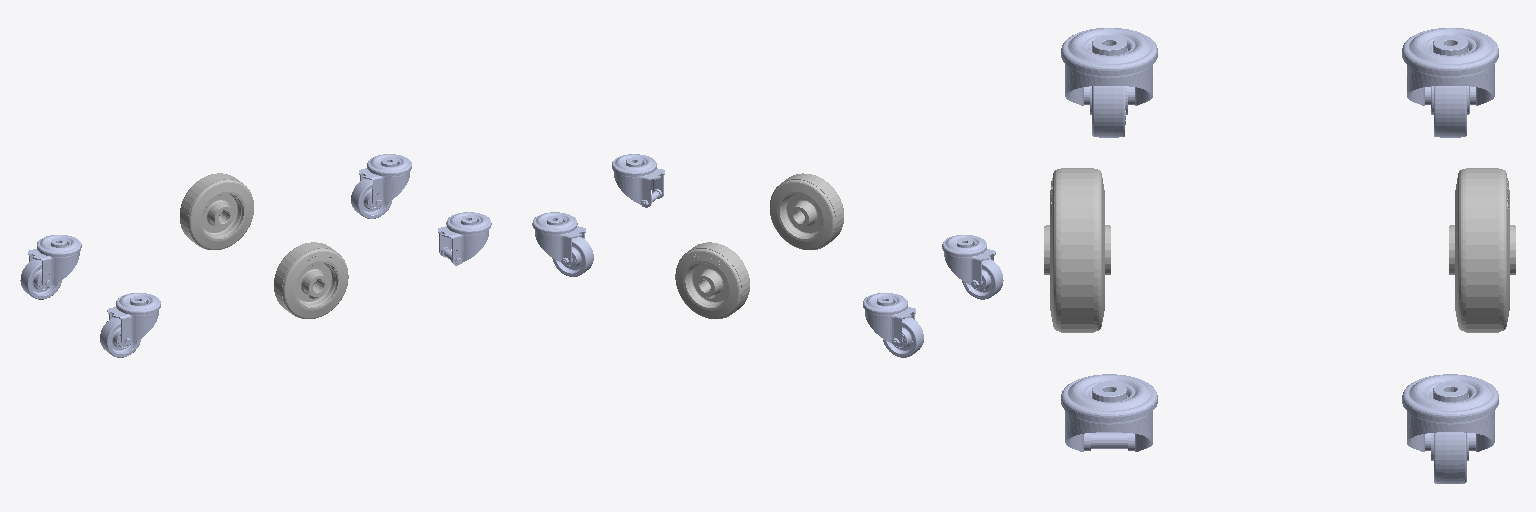
URDF robot description (smr100e_description):
<?xml version="1.0" encoding="utf-8"?>
<!-- This URDF was automatically created by SolidWorks to URDF Exporter! Originally created by [author] ([email redacted]) 
     Commit Version: 1.5.1-0-g916b5db  Build Version: 1.5.7152.31018
     For more information, please see http://wiki.ros.org/sw_urdf_exporter -->
<robot
  name="smr100e_description">
  <link
    name="base_link">
    <inertial>
      <origin
        xyz="0.010919 -0.00079912 0.23958"
        rpy="0 0 0" />
      <mass
        value="17.77" />
      <inertia
        ixx="0.64255"
        ixy="-0.002326"
        ixz="0.047666"
        iyy="1.531"
        iyz="-0.0011678"
        izz="1.626" />
    </inertial>
    <visual>
      <origin
        xyz="0 0 0"
        rpy="0 0 0" />
      <geometry>
        <mesh
          filename="package://smr100e_description/meshes/base_link.STL" />
      </geometry>
      <material
        name="">
        <color
          rgba="0.79216 0.81961 0.93333 1" />
      </material>
    </visual>
    <collision>
      <origin
        xyz="0 0 0"
        rpy="0 0 0" />
      <geometry>
        <mesh
          filename="package://smr100e_description/meshes/base_link.STL" />
      </geometry>
    </collision>
  </link>
  <link
    name="wheel_left_link">
    <inertial>
      <origin
        xyz="5.7207E-08 3.3262E-05 -9.2679E-05"
        rpy="0 0 0" />
      <mass
        value="4.9554" />
      <inertia
        ixx="0.0087272"
        ixy="-4.3289E-09"
        ixz="-2.7053E-08"
        iyy="0.01571"
        iyz="2.8551E-06"
        izz="0.0087185" />
    </inertial>
    <visual>
      <origin
        xyz="0 0 0"
        rpy="0 0 0" />
      <geometry>
        <mesh
          filename="package://smr100e_description/meshes/wheel_left_link.STL" />
      </geometry>
      <material
        name="">
        <color
          rgba="0.79216 0.79216 0.79216 1" />
      </material>
    </visual>
    <collision>
      <origin
        xyz="0 0 0"
        rpy="0 0 0" />
      <geometry>
        <mesh
          filename="package://smr100e_description/meshes/wheel_left_link.STL" />
      </geometry>
    </collision>
  </link>
  <joint
    name="wheel_left_joint"
    type="continuous">
    <origin
      xyz="0 0.184 0.075"
      rpy="0 0 0" />
    <parent
      link="base_link" />
    <child
      link="wheel_left_link" />
    <axis
      xyz="0 -1 0" />
  </joint>
  <link
    name="caster_front_left_arm_link">
    <inertial>
      <origin
        xyz="-0.0084392 6.8287E-05 -0.022004"
        rpy="0 0 0" />
      <mass
        value="0.11922" />
      <inertia
        ixx="0.00011949"
        ixy="2.5918E-07"
        ixz="-3.3659E-05"
        iyy="0.00013144"
        iyz="3.8695E-07"
        izz="0.0001377" />
    </inertial>
    <visual>
      <origin
        xyz="0 0 0"
        rpy="0 0 0" />
      <geometry>
        <mesh
          filename="package://smr100e_description/meshes/caster_front_left_arm_link.STL" />
      </geometry>
      <material
        name="">
        <color
          rgba="0.79216 0.81961 0.93333 1" />
      </material>
    </visual>
    <collision>
      <origin
        xyz="0 0 0"
        rpy="0 0 0" />
      <geometry>
        <mesh
          filename="package://smr100e_description/meshes/caster_front_left_arm_link.STL" />
      </geometry>
    </collision>
  </link>
  <joint
    name="caster_front_left_arm_joint"
    type="continuous">
    <origin
      xyz="0.3725 0.155 0.10942"
      rpy="0 0 0" />
    <parent
      link="base_link" />
    <child
      link="caster_front_left_arm_link" />
    <axis
      xyz="0 0 1" />
  </joint>
  <link
    name="caster_front_left_wheel_link">
    <inertial>
      <origin
        xyz="9.0636E-06 1.0025E-05 -3.4158E-05"
        rpy="0 0 0" />
      <mass
        value="0.10623" />
      <inertia
        ixx="5.3145E-05"
        ixy="-1.3094E-08"
        ixz="-1.6364E-09"
        iyy="9.0791E-05"
        iyz="1.1955E-08"
        izz="5.3158E-05" />
    </inertial>
    <visual>
      <origin
        xyz="0 0 0"
        rpy="0 0 0" />
      <geometry>
        <mesh
          filename="package://smr100e_description/meshes/caster_front_left_wheel_link.STL" />
      </geometry>
      <material
        name="">
        <color
          rgba="0.79216 0.81961 0.93333 1" />
      </material>
    </visual>
    <collision>
      <origin
        xyz="0 0 0"
        rpy="0 0 0" />
      <geometry>
        <mesh
          filename="package://smr100e_description/meshes/caster_front_left_wheel_link.STL" />
      </geometry>
    </collision>
  </link>
  <joint
    name="caster_front_left_wheel_joint"
    type="continuous">
    <origin
      xyz="-0.04 -0.0005 -0.07"
      rpy="0 0 0" />
    <parent
      link="caster_front_left_arm_link" />
    <child
      link="caster_front_left_wheel_link" />
    <axis
      xyz="0 -1 0" />
  </joint>
  <link
    name="caster_rear_left_arm_link">
    <inertial>
      <origin
        xyz="-0.0084392 6.8287E-05 -0.022004"
        rpy="0 0 0" />
      <mass
        value="0.11922" />
      <inertia
        ixx="0.00011949"
        ixy="2.5918E-07"
        ixz="-3.3659E-05"
        iyy="0.00013144"
        iyz="3.8695E-07"
        izz="0.0001377" />
    </inertial>
    <visual>
      <origin
        xyz="0 0 0"
        rpy="0 0 0" />
      <geometry>
        <mesh
          filename="package://smr100e_description/meshes/caster_rear_left_arm_link.STL" />
      </geometry>
      <material
        name="">
        <color
          rgba="0.79216 0.81961 0.93333 1" />
      </material>
    </visual>
    <collision>
      <origin
        xyz="0 0 0"
        rpy="0 0 0" />
      <geometry>
        <mesh
          filename="package://smr100e_description/meshes/caster_rear_left_arm_link.STL" />
      </geometry>
    </collision>
  </link>
  <joint
    name="caster_rear_left_arm_joint"
    type="continuous">
    <origin
      xyz="-0.3725 0.155 0.10942"
      rpy="0 0 0" />
    <parent
      link="base_link" />
    <child
      link="caster_rear_left_arm_link" />
    <axis
      xyz="0 0 1" />
  </joint>
  <link
    name="caster_rear_left_wheel_link">
    <inertial>
      <origin
        xyz="9.0636E-06 1.0025E-05 -3.4158E-05"
        rpy="0 0 0" />
      <mass
        value="0.10623" />
      <inertia
        ixx="5.3145E-05"
        ixy="-1.3094E-08"
        ixz="-1.6364E-09"
        iyy="9.0791E-05"
        iyz="1.1955E-08"
        izz="5.3158E-05" />
    </inertial>
    <visual>
      <origin
        xyz="0 0 0"
        rpy="0 0 0" />
      <geometry>
        <mesh
          filename="package://smr100e_description/meshes/caster_rear_left_wheel_link.STL" />
      </geometry>
      <material
        name="">
        <color
          rgba="0.79216 0.81961 0.93333 1" />
      </material>
    </visual>
    <collision>
      <origin
        xyz="0 0 0"
        rpy="0 0 0" />
      <geometry>
        <mesh
          filename="package://smr100e_description/meshes/caster_rear_left_wheel_link.STL" />
      </geometry>
    </collision>
  </link>
  <joint
    name="caster_rear_left_wheel_joint"
    type="continuous">
    <origin
      xyz="-0.04 -0.0002 -0.07"
      rpy="0 0 0" />
    <parent
      link="caster_rear_left_arm_link" />
    <child
      link="caster_rear_left_wheel_link" />
    <axis
      xyz="0 -1 0" />
  </joint>
  <link
    name="wheel_right_link">
    <inertial>
      <origin
        xyz="-5.7206E-08 -3.3262E-05 -9.2679E-05"
        rpy="0 0 0" />
      <mass
        value="4.9554" />
      <inertia
        ixx="0.0087272"
        ixy="-4.3288E-09"
        ixz="2.7053E-08"
        iyy="0.01571"
        iyz="-2.8551E-06"
        izz="0.0087185" />
    </inertial>
    <visual>
      <origin
        xyz="0 0 0"
        rpy="0 0 0" />
      <geometry>
        <mesh
          filename="package://smr100e_description/meshes/wheel_right_link.STL" />
      </geometry>
      <material
        name="">
        <color
          rgba="0.79216 0.79216 0.79216 1" />
      </material>
    </visual>
    <collision>
      <origin
        xyz="0 0 0"
        rpy="0 0 0" />
      <geometry>
        <mesh
          filename="package://smr100e_description/meshes/wheel_right_link.STL" />
      </geometry>
    </collision>
  </link>
  <joint
    name="wheel_right_joint"
    type="continuous">
    <origin
      xyz="0 -0.184 0.075"
      rpy="0 0 0" />
    <parent
      link="base_link" />
    <child
      link="wheel_right_link" />
    <axis
      xyz="0 1 0" />
  </joint>
  <link
    name="caster_front_right_arm_link">
    <inertial>
      <origin
        xyz="-0.0084392 6.8287E-05 -0.022004"
        rpy="0 0 0" />
      <mass
        value="0.11922" />
      <inertia
        ixx="0.00011949"
        ixy="2.5918E-07"
        ixz="-3.3659E-05"
        iyy="0.00013144"
        iyz="3.8695E-07"
        izz="0.0001377" />
    </inertial>
    <visual>
      <origin
        xyz="0 0 0"
        rpy="0 0 0" />
      <geometry>
        <mesh
          filename="package://smr100e_description/meshes/caster_front_right_arm_link.STL" />
      </geometry>
      <material
        name="">
        <color
          rgba="0.79216 0.81961 0.93333 1" />
      </material>
    </visual>
    <collision>
      <origin
        xyz="0 0 0"
        rpy="0 0 0" />
      <geometry>
        <mesh
          filename="package://smr100e_description/meshes/caster_front_right_arm_link.STL" />
      </geometry>
    </collision>
  </link>
  <joint
    name="cater_front_right_arm_joint"
    type="continuous">
    <origin
      xyz="0.3725 -0.155 0.10942"
      rpy="0 0 0" />
    <parent
      link="base_link" />
    <child
      link="caster_front_right_arm_link" />
    <axis
      xyz="0 0 1" />
  </joint>
  <link
    name="caster_front_right_wheel_link">
    <inertial>
      <origin
        xyz="9.0636E-06 1.0025E-05 -3.4158E-05"
        rpy="0 0 0" />
      <mass
        value="0.10623" />
      <inertia
        ixx="5.3145E-05"
        ixy="-1.3094E-08"
        ixz="-1.6364E-09"
        iyy="9.0791E-05"
        iyz="1.1955E-08"
        izz="5.3158E-05" />
    </inertial>
    <visual>
      <origin
        xyz="0 0 0"
        rpy="0 0 0" />
      <geometry>
        <mesh
          filename="package://smr100e_description/meshes/caster_front_right_wheel_link.STL" />
      </geometry>
      <material
        name="">
        <color
          rgba="0.79216 0.81961 0.93333 1" />
      </material>
    </visual>
    <collision>
      <origin
        xyz="0 0 0"
        rpy="0 0 0" />
      <geometry>
        <mesh
          filename="package://smr100e_description/meshes/caster_front_right_wheel_link.STL" />
      </geometry>
    </collision>
  </link>
  <joint
    name="caster_front_right_wheel_joint"
    type="continuous">
    <origin
      xyz="-0.04 -0.0002 -0.07"
      rpy="0 0 0" />
    <parent
      link="caster_front_right_arm_link" />
    <child
      link="caster_front_right_wheel_link" />
    <axis
      xyz="0 1 0" />
  </joint>
  <link
    name="caster_rear_right_arm_link">
    <inertial>
      <origin
        xyz="-0.00843923711974914 6.82869071934045E-05 -0.0220040709728501"
        rpy="0 0 0" />
      <mass
        value="0.11922001614021" />
      <inertia
        ixx="0.000119486348254277"
        ixy="2.59184030283027E-07"
        ixz="-3.36592440878E-05"
        iyy="0.000131444230633922"
        iyz="3.86949272720468E-07"
        izz="0.000137700254543915" />
    </inertial>
    <visual>
      <origin
        xyz="0 0 0"
        rpy="0 0 0" />
      <geometry>
        <mesh
          filename="package://smr100e_description/meshes/caster_rear_right_arm_link.STL" />
      </geometry>
      <material
        name="">
        <color
          rgba="0.792156862745098 0.819607843137255 0.933333333333333 1" />
      </material>
    </visual>
    <collision>
      <origin
        xyz="0 0 0"
        rpy="0 0 0" />
      <geometry>
        <mesh
          filename="package://smr100e_description/meshes/caster_rear_right_arm_link.STL" />
      </geometry>
    </collision>
  </link>
  <joint
    name="caster_rear_right_arm_joint"
    type="continuous">
    <origin
      xyz="-0.3725 -0.155 0.10942"
      rpy="0 0 0" />
    <parent
      link="base_link" />
    <child
      link="caster_rear_right_arm_link" />
    <axis
      xyz="0 0 1" />
  </joint>
  <link
    name="caster_rear_right_wheel_link">
    <inertial>
      <origin
        xyz="9.0635610097145E-06 1.00246685700023E-05 -3.41579619149227E-05"
        rpy="0 0 0" />
      <mass
        value="0.106227739121479" />
      <inertia
        ixx="5.31454154966382E-05"
        ixy="-1.30943250317608E-08"
        ixz="-1.63641579326325E-09"
        iyy="9.07905500875471E-05"
        iyz="1.19552325589121E-08"
        izz="5.31582091921388E-05" />
    </inertial>
    <visual>
      <origin
        xyz="0 0 0"
        rpy="0 0 0" />
      <geometry>
        <mesh
          filename="package://smr100e_description/meshes/caster_rear_right_wheel_link.STL" />
      </geometry>
      <material
        name="">
        <color
          rgba="0.792156862745098 0.819607843137255 0.933333333333333 1" />
      </material>
    </visual>
    <collision>
      <origin
        xyz="0 0 0"
        rpy="0 0 0" />
      <geometry>
        <mesh
          filename="package://smr100e_description/meshes/caster_rear_right_wheel_link.STL" />
      </geometry>
    </collision>
  </link>
  <joint
    name="caster_rear_right_wheel_joint"
    type="continuous">
    <origin
      xyz="-0.04 -0.0005 -0.07"
      rpy="0 0 0" />
    <parent
      link="caster_rear_right_arm_link" />
    <child
      link="caster_rear_right_wheel_link" />
    <axis
      xyz="0 1 0" />
  </joint>
  <link
    name="lidar_link">
    <inertial>
      <origin
        xyz="-0.00233498101477952 -1.38294948264555E-06 -0.0129543211135779"
        rpy="0 0 0" />
      <mass
        value="0.0967444163686206" />
      <inertia
        ixx="6.75053726572271E-05"
        ixy="-4.85104312872503E-08"
        ixz="-2.38171290588733E-06"
        iyy="8.2230288975979E-05"
        iyz="-1.88559772177136E-08"
        izz="0.000116331696785306" />
    </inertial>
    <visual>
      <origin
        xyz="0 0 0"
        rpy="0 0 0" />
      <geometry>
        <mesh
          filename="package://smr100e_description/meshes/lidar_link.STL" />
      </geometry>
      <material
        name="">
        <color
          rgba="0.898039215686275 0.917647058823529 0.929411764705882 1" />
      </material>
    </visual>
    <collision>
      <origin
        xyz="0 0 0"
        rpy="0 0 0" />
      <geometry>
        <mesh
          filename="package://smr100e_description/meshes/lidar_link.STL" />
      </geometry>
    </collision>
  </link>
  <joint
    name="lidar_joint"
    type="fixed">
    <origin
      xyz="0.4425 0 0.15992"
      rpy="0 0 0" />
    <parent
      link="base_link" />
    <child
      link="lidar_link" />
    <axis
      xyz="0 0 0" />
  </joint>
  <link
    name="imu_link">
    <inertial>
      <origin
        xyz="-6.93505865297182E-05 2.10656642645746E-05 -0.001722725779644"
        rpy="0 0 0" />
      <mass
        value="0.000911356888660495" />
      <inertia
        ixx="2.8541034821061E-08"
        ixy="-2.22197427857281E-10"
        ixz="7.87903579180728E-11"
        iyy="4.99346433608489E-08"
        iyz="-4.13194761846516E-11"
        izz="7.78569805080497E-08" />
    </inertial>
    <visual>
      <origin
        xyz="0 0 0"
        rpy="0 0 0" />
      <geometry>
        <mesh
          filename="package://smr100e_description/meshes/imu_link.STL" />
      </geometry>
      <material
        name="">
        <color
          rgba="0.792156862745098 0.819607843137255 0.933333333333333 1" />
      </material>
    </visual>
    <collision>
      <origin
        xyz="0 0 0"
        rpy="0 0 0" />
      <geometry>
        <mesh
          filename="package://smr100e_description/meshes/imu_link.STL" />
      </geometry>
    </collision>
  </link>
  <joint
    name="imu_joint"
    type="fixed">
    <origin
      xyz="0.06095 0.005 0.26398"
      rpy="0 0 -1.5708" />
    <parent
      link="base_link" />
    <child
      link="imu_link" />
    <axis
      xyz="0 0 0" />
  </joint>
</robot>

--- Render facts (derived) ---
Views: 3 orthographic renders of the robot side by side, from view 1: azimuth 30°, elevation 25°; view 2: azimuth 150°, elevation 25°; view 3: azimuth 270°, elevation 25°.
Model smr100e_description with 13 links and 12 joints (10 continuous, 2 fixed), rooted at base_link, posed all joints at 0.
Visible links, largest first — view 1: wheel_right_link, wheel_left_link, caster_front_right_arm_link, caster_rear_right_arm_link, caster_front_left_arm_link, caster_rear_left_arm_link, caster_rear_left_wheel_link, caster_front_left_wheel_link, caster_rear_right_wheel_link; view 2: wheel_left_link, wheel_right_link, caster_front_right_arm_link, caster_rear_right_arm_link, caster_front_left_arm_link, caster_rear_left_arm_link, caster_rear_left_wheel_link, caster_front_left_wheel_link, caster_rear_right_wheel_link; view 3: wheel_left_link, wheel_right_link, caster_front_right_arm_link, caster_rear_right_arm_link, caster_front_left_arm_link, caster_rear_left_arm_link, caster_rear_left_wheel_link, caster_rear_right_wheel_link, caster_front_left_wheel_link.
Link boxes in pixels (left/top/right/bottom): wheel_right_link: left=274, top=242, right=348, bottom=318; wheel_left_link: left=180, top=173, right=253, bottom=249; caster_front_right_arm_link: left=438, top=212, right=491, bottom=265; caster_rear_right_arm_link: left=107, top=293, right=160, bottom=345; caster_front_left_arm_link: left=359, top=154, right=411, bottom=207; caster_rear_left_arm_link: left=28, top=235, right=81, bottom=287; caster_rear_left_wheel_link: left=20, top=259, right=61, bottom=299; caster_front_left_wheel_link: left=351, top=179, right=391, bottom=218; caster_rear_right_wheel_link: left=100, top=317, right=141, bottom=357; wheel_left_link: left=675, top=242, right=749, bottom=318; wheel_right_link: left=770, top=173, right=843, bottom=249; caster_front_right_arm_link: left=612, top=154, right=664, bottom=207; caster_rear_right_arm_link: left=942, top=235, right=995, bottom=287; caster_front_left_arm_link: left=532, top=212, right=585, bottom=265; caster_rear_left_arm_link: left=863, top=293, right=915, bottom=345; caster_rear_left_wheel_link: left=883, top=317, right=923, bottom=357; caster_front_left_wheel_link: left=552, top=237, right=593, bottom=276; caster_rear_right_wheel_link: left=962, top=259, right=1003, bottom=299; wheel_left_link: left=1449, top=168, right=1515, bottom=332; wheel_right_link: left=1044, top=168, right=1110, bottom=332; caster_front_right_arm_link: left=1061, top=374, right=1157, bottom=451; caster_rear_right_arm_link: left=1061, top=28, right=1157, bottom=105; caster_front_left_arm_link: left=1402, top=374, right=1498, bottom=451; caster_rear_left_arm_link: left=1402, top=28, right=1498, bottom=105; caster_rear_left_wheel_link: left=1431, top=86, right=1469, bottom=137; caster_rear_right_wheel_link: left=1090, top=86, right=1127, bottom=137; caster_front_left_wheel_link: left=1431, top=432, right=1468, bottom=483.
Bounding box of the posed robot: 0.8689 × 0.428 × 0.1503 m (x, y, z).
9 mesh visuals loaded from 13 distinct referenced files (9 binary STL); not drawn: 4 (reference not matched to a file when rendering).